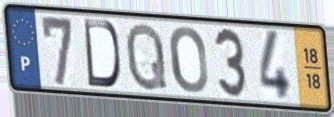3: (213, 26, 248, 101)
4: (258, 26, 293, 105)
7: (39, 12, 77, 89)
D: (82, 16, 123, 90)
O: (167, 24, 210, 96)
Q: (124, 20, 170, 94)
